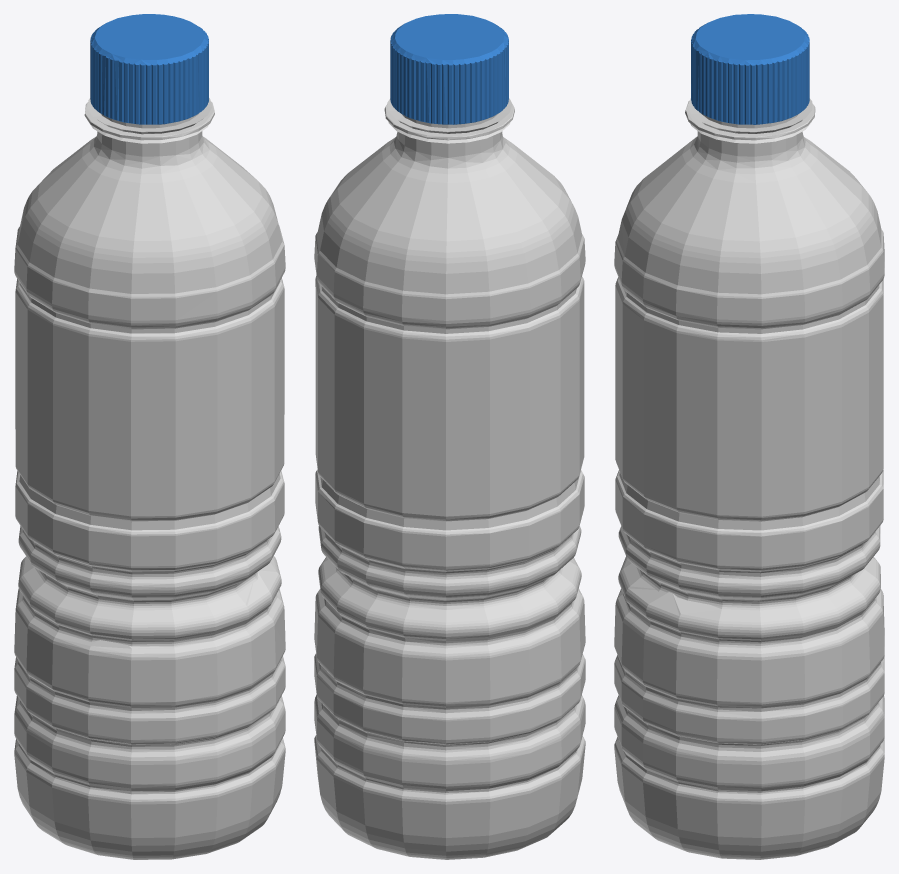
File: pet_bottle.dae
3 views of the same model, side by side, from view 1: azimuth 30°, elevation 25°; view 2: azimuth 150°, elevation 25°; view 3: azimuth 270°, elevation 25° (orthographic).
Visible parts, largest first — view 1: bottle, lid; view 2: bottle, lid; view 3: bottle, lid.
Boxes of the visible parts, x1,y1,x2,y2 form: bottle: (14,98,285,859); lid: (90,14,208,124); bottle: (314,98,585,859); lid: (390,14,508,124); bottle: (614,98,884,859); lid: (691,14,809,124).
Bounding box in the file's own units: 0.066 × 0.0658 × 0.2111.
